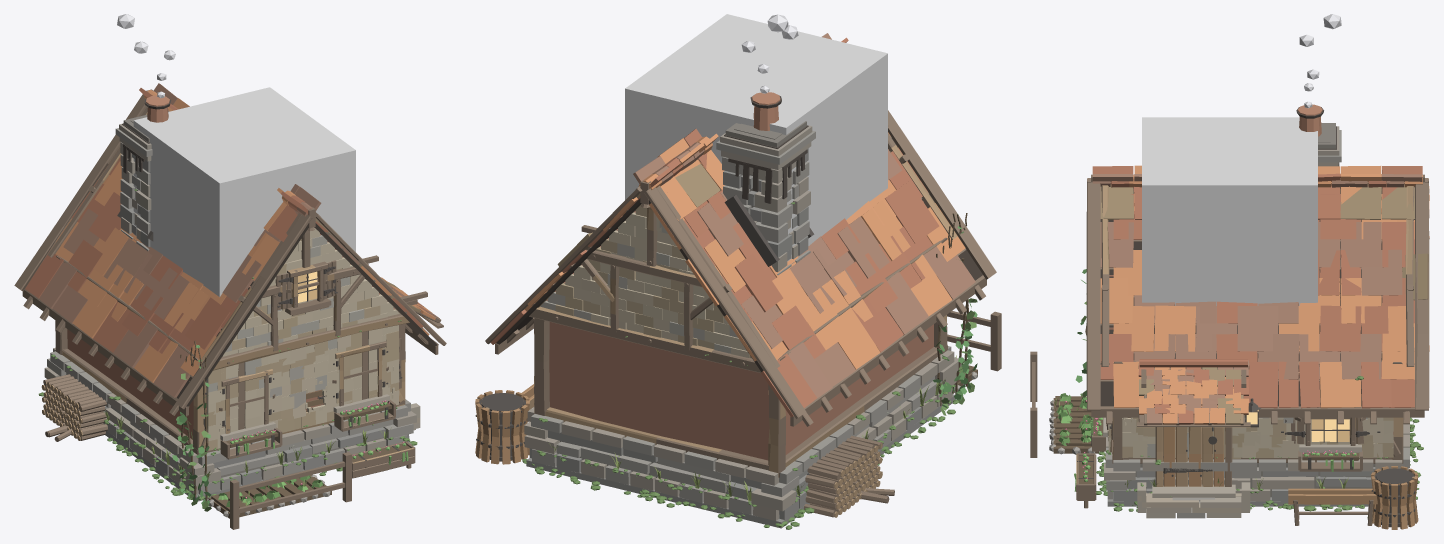
The model's file is bld_cottage.glb.
The picture shows the model from 3 angles, left to right: view 1: azimuth 30°, elevation 25°; view 2: azimuth 150°, elevation 25°; view 3: azimuth 270°, elevation 25°; orthographic projection. The views are drawn at different scales.
Visible parts, largest first — view 1: bld_cottage, COL_bld_cottage; view 2: bld_cottage, COL_bld_cottage; view 3: bld_cottage, COL_bld_cottage.
Boxes of the visible parts, x1,y1,x2,y2 form: bld_cottage: (14, 14, 446, 529); COL_bld_cottage: (133, 87, 355, 296); bld_cottage: (475, 14, 1001, 529); COL_bld_cottage: (625, 14, 887, 261); bld_cottage: (1030, 14, 1429, 529); COL_bld_cottage: (1142, 117, 1317, 305).
Size of the model in its own units: 6.27 by 7.83 by 6.86.
